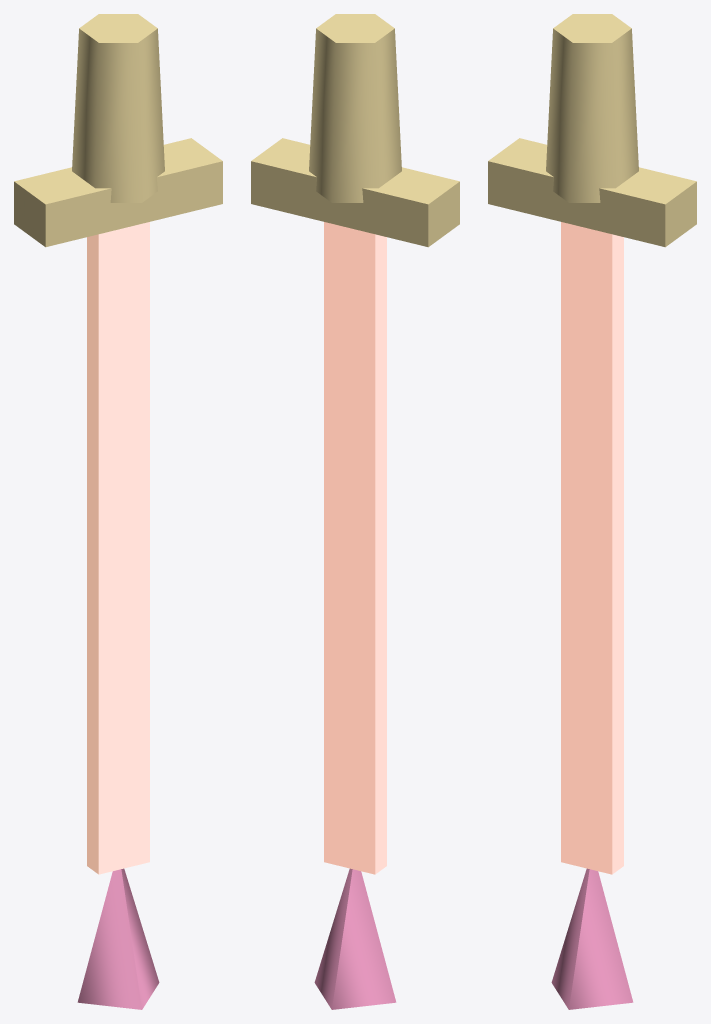
File: sunblade.glb
3 renders of one model, left to right at view 1: azimuth 30°, elevation 25°; view 2: azimuth 150°, elevation 25°; view 3: azimuth 330°, elevation 25°, orthographic.
Size of the model in its own units: 0.26 by 1.35 by 0.12.
